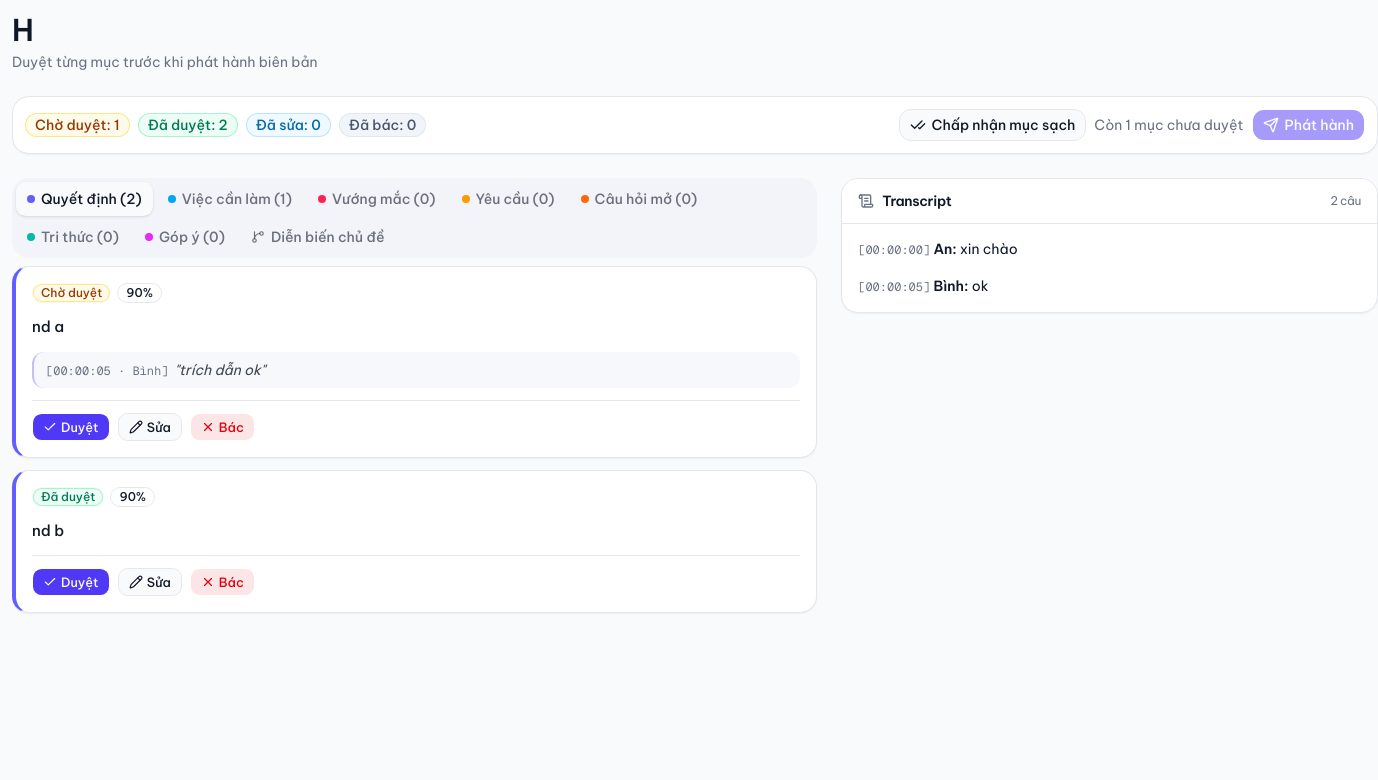
Test: approve-clean shows count
Click the button "Chấp nhận mục sạch" at (992, 125), box top-left (899, 109), bottom-right (1086, 141)
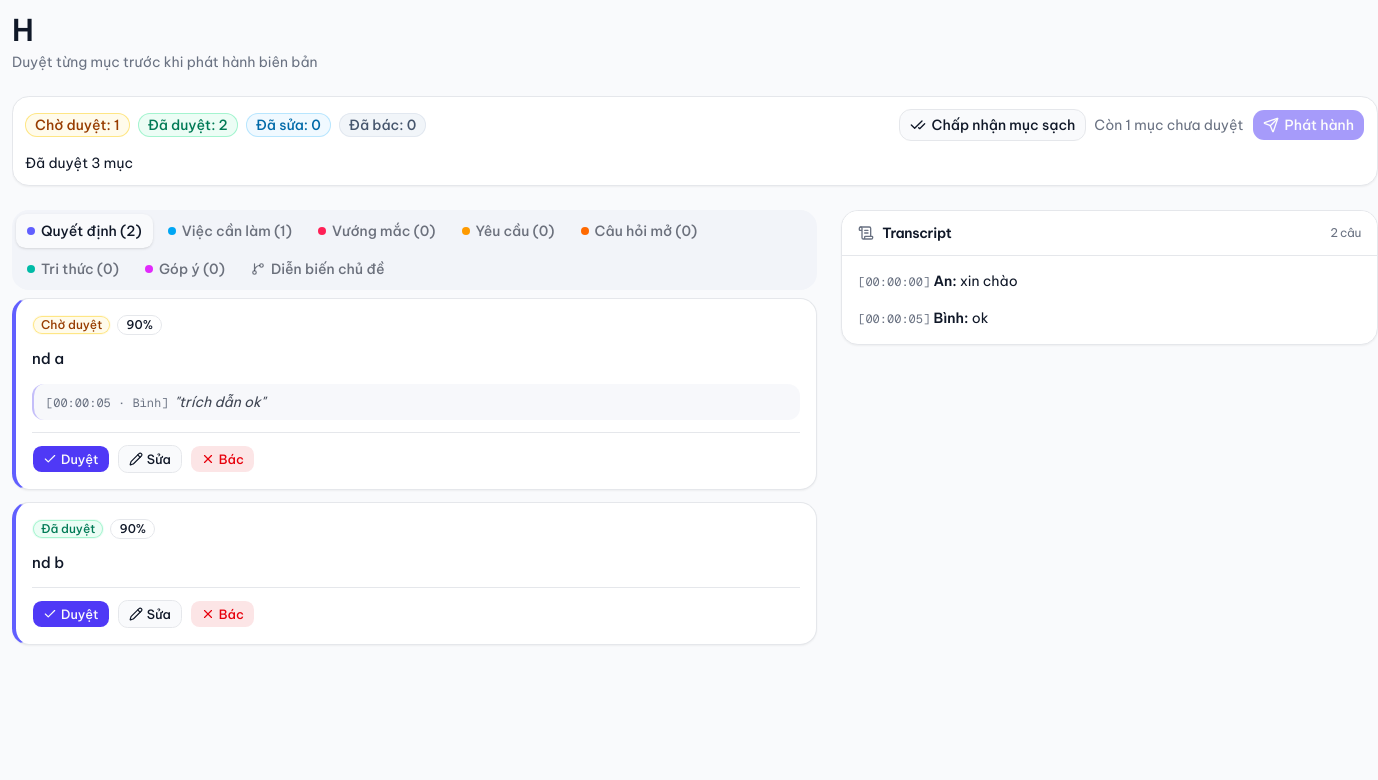
Check: the text "Đã duyệt 3 mục" is shown, box top-left (25, 154), bottom-right (133, 172)
